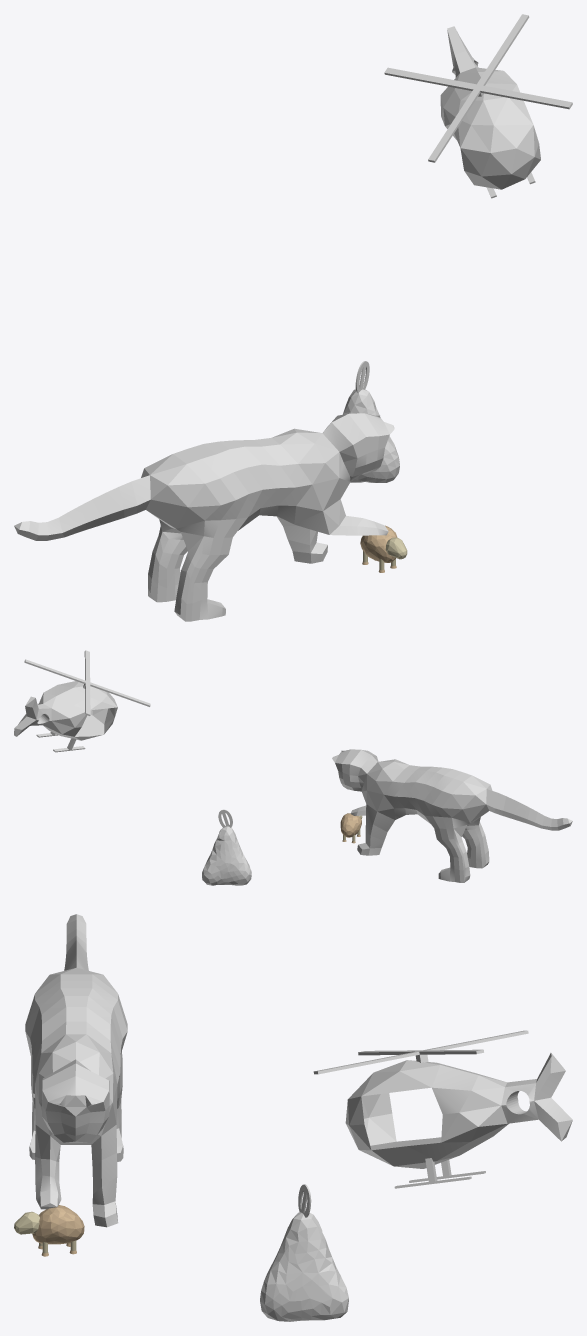
Rendered from map.fbx.
3 renders of one model, top to bottom at view 1: azimuth 30°, elevation 25°; view 2: azimuth 150°, elevation 25°; view 3: azimuth 270°, elevation 25°, orthographic. The views are drawn at different scales.
Parts seen in each view (by area): view 1: chaton#JeCodeLeSoir#un chat qui joue, louloucoptere#JeCodeLeSoir#un bébé copter, caiilou-nez#Teerla#un caillou en forme de nez, mouton#Teerla#BEHHHHHHH; view 2: chaton#JeCodeLeSoir#un chat qui joue, louloucoptere#JeCodeLeSoir#un bébé copter, caiilou-nez#Teerla#un caillou en forme de nez, mouton#Teerla#BEHHHHHHH; view 3: chaton#JeCodeLeSoir#un chat qui joue, louloucoptere#JeCodeLeSoir#un bébé copter, caiilou-nez#Teerla#un caillou en forme de nez, mouton#Teerla#BEHHHHHHH.
Part boxes in pixels (x1,y1,x2,y2): chaton#JeCodeLeSoir#un chat qui joue: (14,413,394,621); louloucoptere#JeCodeLeSoir#un bébé copter: (384,14,572,198); caiilou-nez#Teerla#un caillou en forme de nez: (343,389,399,482); mouton#Teerla#BEHHHHHHH: (360,525,407,572); chaton#JeCodeLeSoir#un chat qui joue: (332,749,572,882); louloucoptere#JeCodeLeSoir#un bébé copter: (14,650,150,752); caiilou-nez#Teerla#un caillou en forme de nez: (202,826,251,885); mouton#Teerla#BEHHHHHHH: (340,813,362,843); chaton#JeCodeLeSoir#un chat qui joue: (25,914,127,1227); louloucoptere#JeCodeLeSoir#un bébé copter: (313,1030,572,1188); caiilou-nez#Teerla#un caillou en forme de nez: (260,1212,348,1321); mouton#Teerla#BEHHHHHHH: (14,1205,84,1256).
Bounding box in the file's own units: 16.45 × 7.97 × 10.11.
